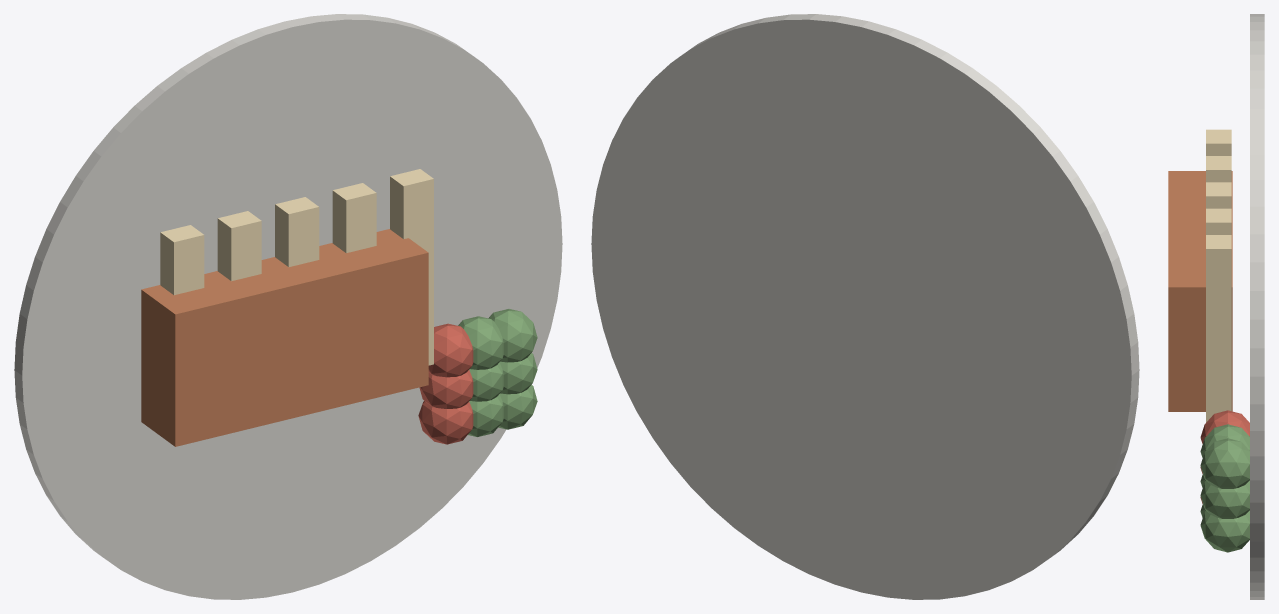
Rendered from costillas-bbq-demo.glb.
3 renders of one model, left to right at view 1: azimuth 30°, elevation 25°; view 2: azimuth 150°, elevation 25°; view 3: azimuth 270°, elevation 25°, orthographic. The views are drawn at different scales.
Parts seen in each view (by area): view 1: plate, rack, bone4, bone2, bone0, bone1, bone3, salad6, salad0, salad8, salad7, salad3 (+4 smaller); view 2: plate; view 3: rack, plate, bone4, salad8, salad2, salad5, salad6, salad7, bone0, bone1, bone2, bone3.
Boxes of the visible parts, x1,y1,x2,y2 form: plate: [14, 14, 562, 599]; rack: [141, 229, 428, 446]; bone4: [390, 169, 433, 365]; bone2: [275, 197, 319, 266]; bone0: [160, 225, 204, 295]; bone1: [217, 211, 261, 281]; bone3: [332, 183, 376, 253]; salad6: [428, 323, 473, 377]; salad0: [418, 401, 473, 444]; salad8: [488, 309, 537, 362]; salad7: [458, 316, 503, 369]; salad3: [419, 370, 473, 408]; plate: [591, 14, 1139, 599]; rack: [1168, 171, 1232, 411]; plate: [1250, 14, 1264, 599]; bone4: [1206, 235, 1231, 422]; salad8: [1200, 438, 1249, 488]; salad2: [1200, 510, 1249, 552]; salad5: [1200, 480, 1249, 518]; salad6: [1200, 410, 1249, 443]; salad7: [1200, 424, 1249, 457]; bone0: [1206, 129, 1231, 155]; bone1: [1206, 156, 1231, 182]; bone2: [1206, 182, 1231, 208]; bone3: [1206, 208, 1231, 234].
Bounding box in the file's own units: 0.32 × 0.32 × 0.0525.
